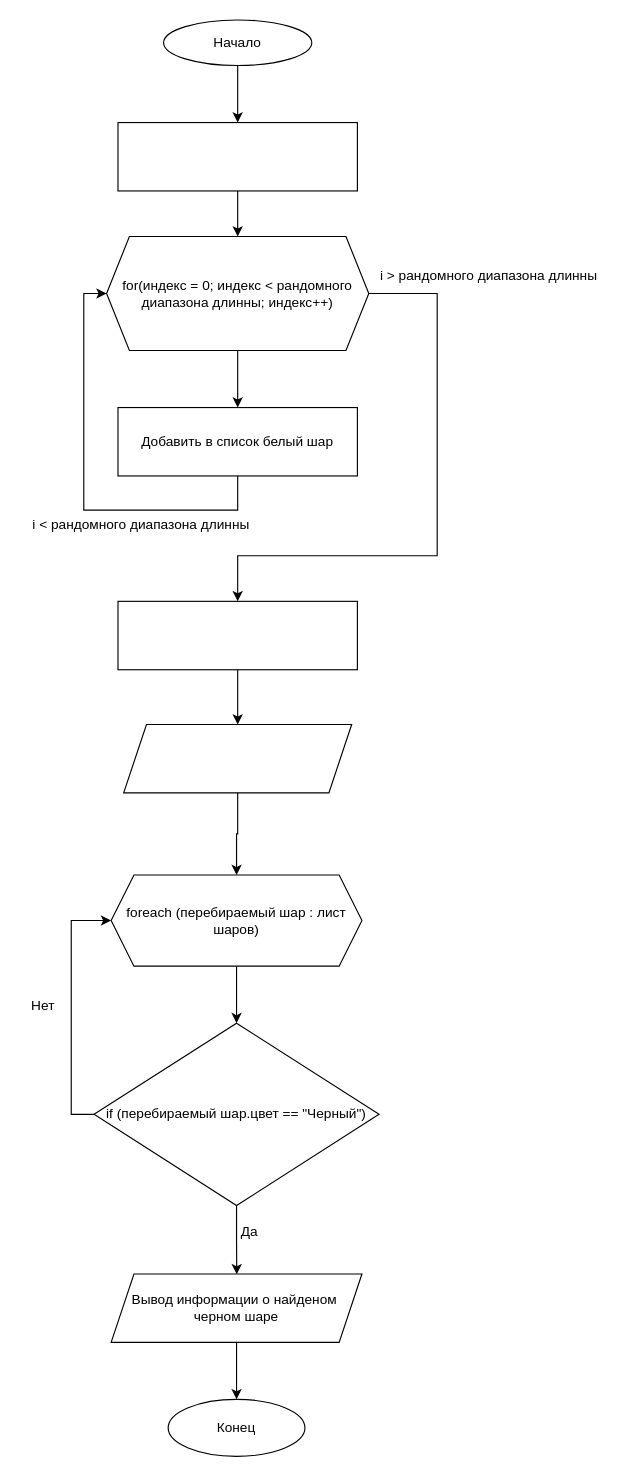
The diagram is 627 pixels wide and 1476 high, and some of its shapes have lost their labels. Each missing label, with the box of its shape:
Вывод сгенерированного случайного листа: (123, 723, 352, 793)
Добавить черный шар в любой рандомный элемент массива: (117, 600, 357, 670)
Создать пустой лист: (117, 121, 357, 191)
